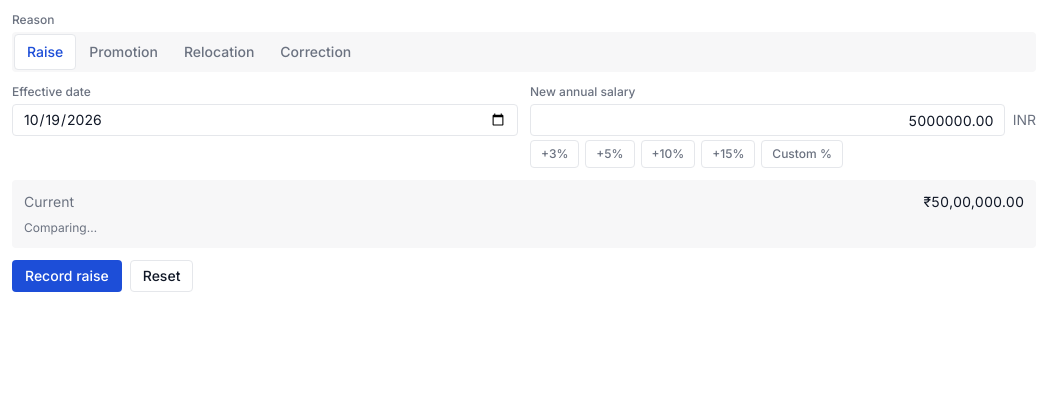
Test: SalaryChangeForm › refuses a promotion that lowers the salary
Click the radio button labelled "Promotion" at [124, 52], box [76, 34, 171, 70]
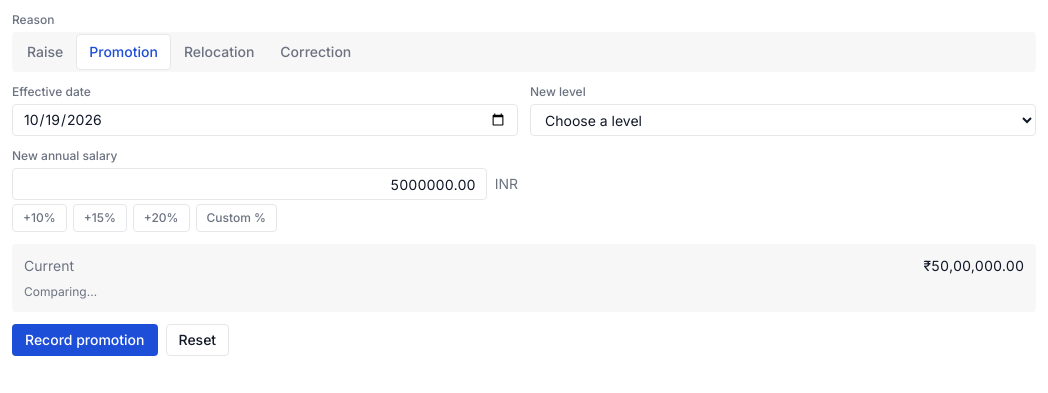
Select "L4 · Lead" in the dropdown labelled "New level" at [783, 120], box [530, 104, 1036, 136]
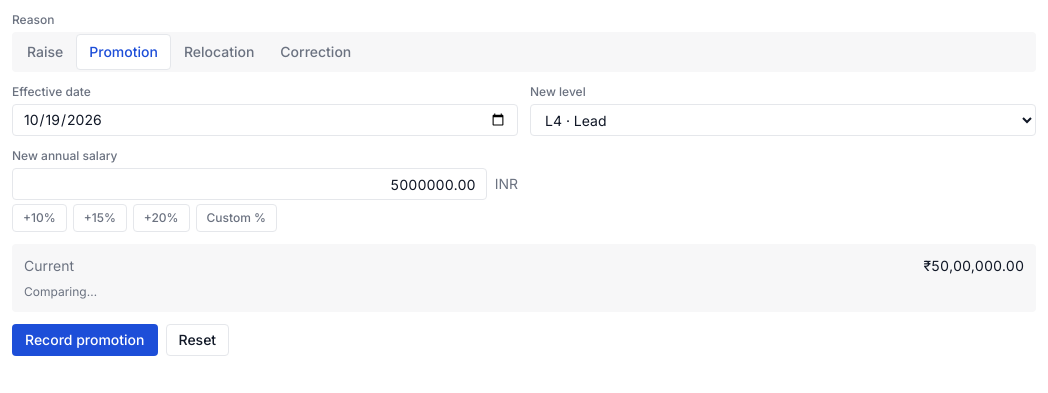
Replace the text in the field labelled "New annual salary" with "4000000" at [249, 184], box [12, 168, 487, 200]
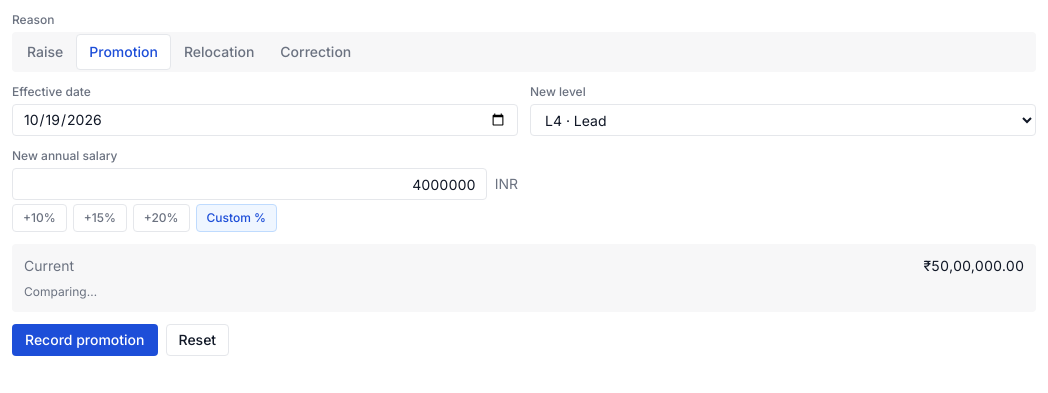
Click the button "Record promotion" at [85, 340], box [12, 324, 158, 356]
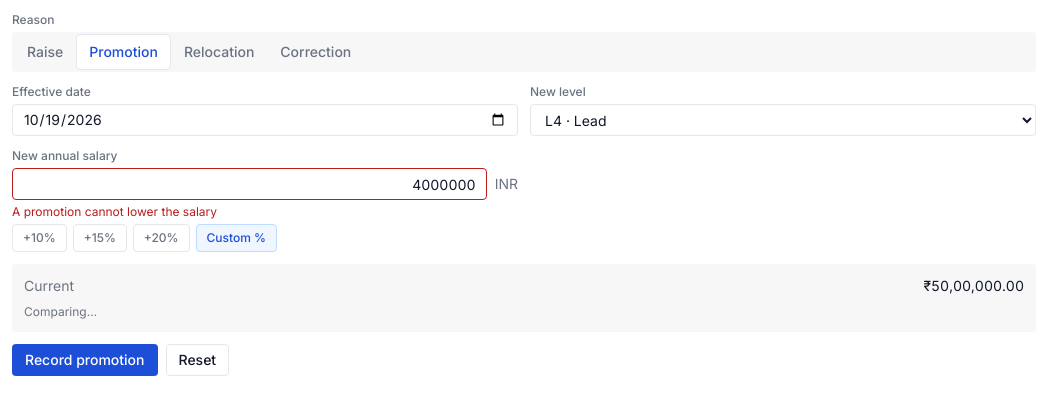
Now the text "A promotion cannot lower the salary" is shown, box [12, 204, 217, 219]
